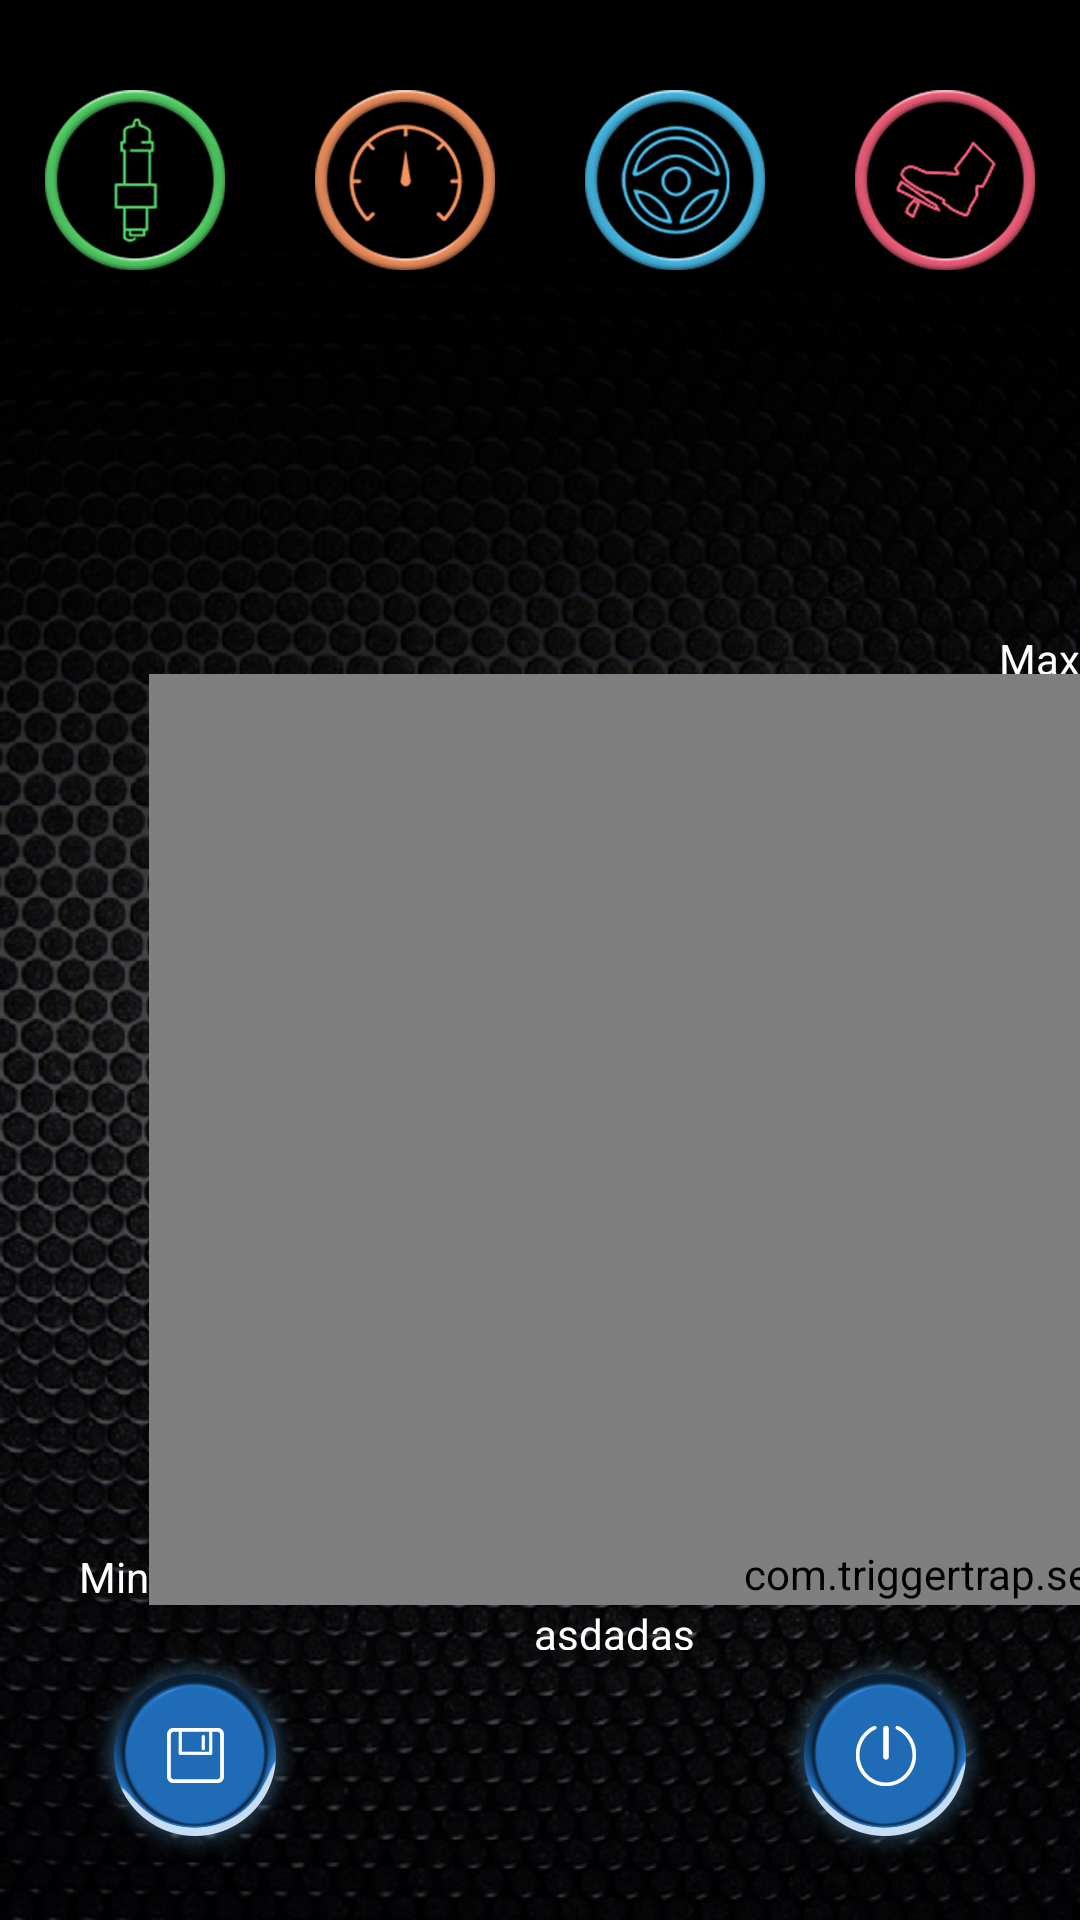

Where to tap for icons on this 1080px x 1920px app screen, as [x,y]:
daisu sel: [405,180]
dianhuo sel: [135,180]
kaiguan sel: [888,1752]
save sel: [198,1752]
youmen sel: [945,180]
